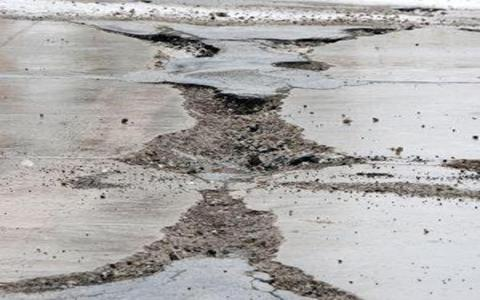patchy roads: (108, 69, 380, 287)
